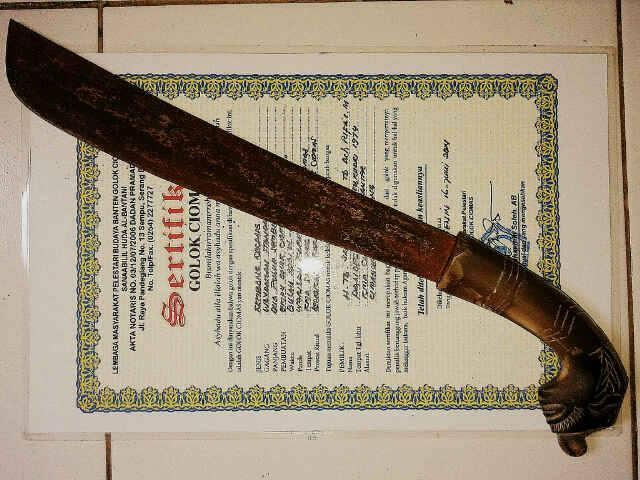facao: (6, 21, 626, 454)
